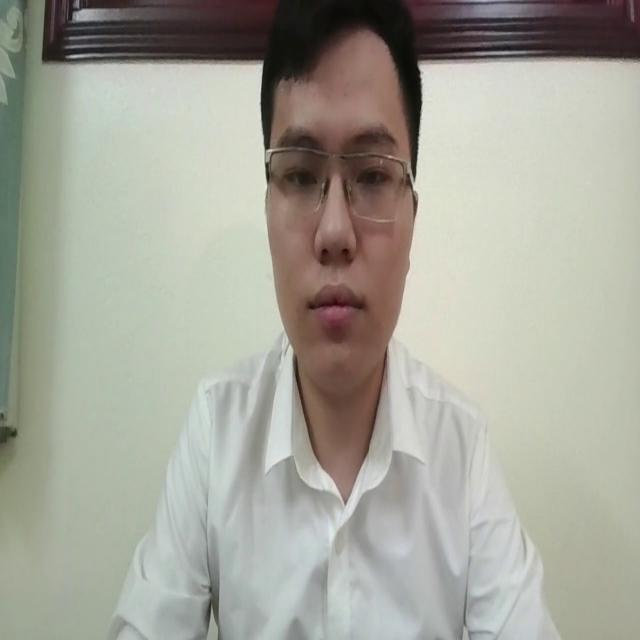student: (102, 2, 560, 640)
